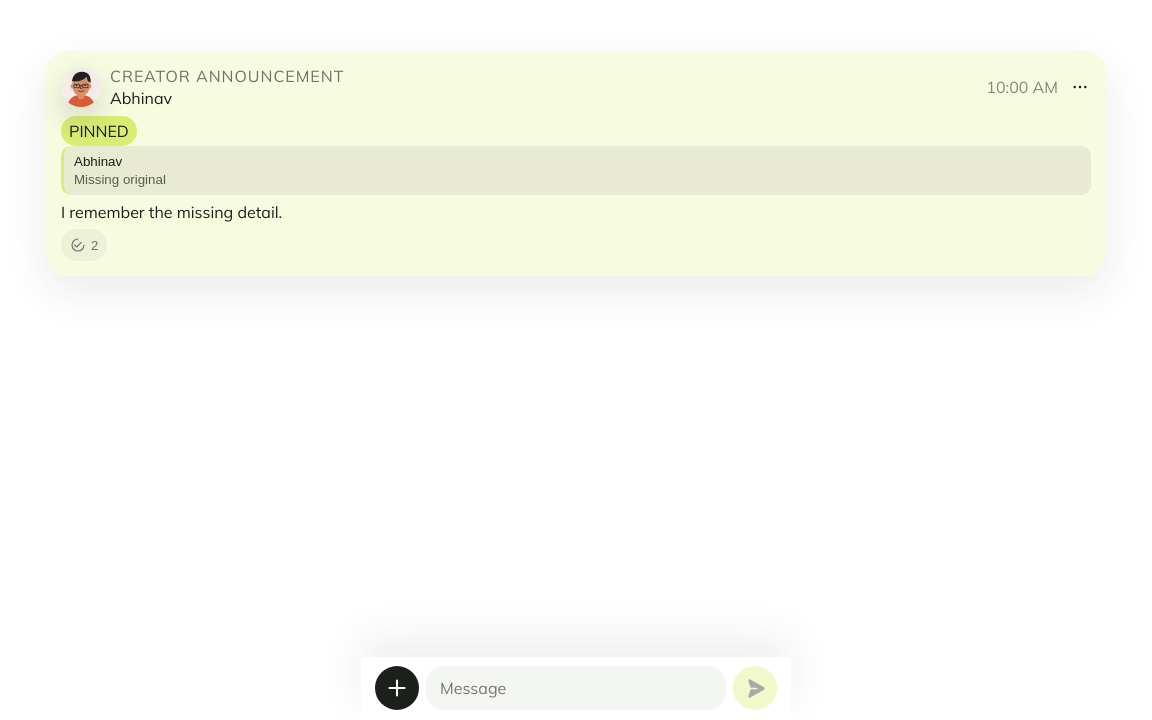
Pod room › degrades only a failed reply context to unavailable
Click the button with aria-label "Reply to Abhinav: Missing original" at (98, 162), box [61,146,1091,195]
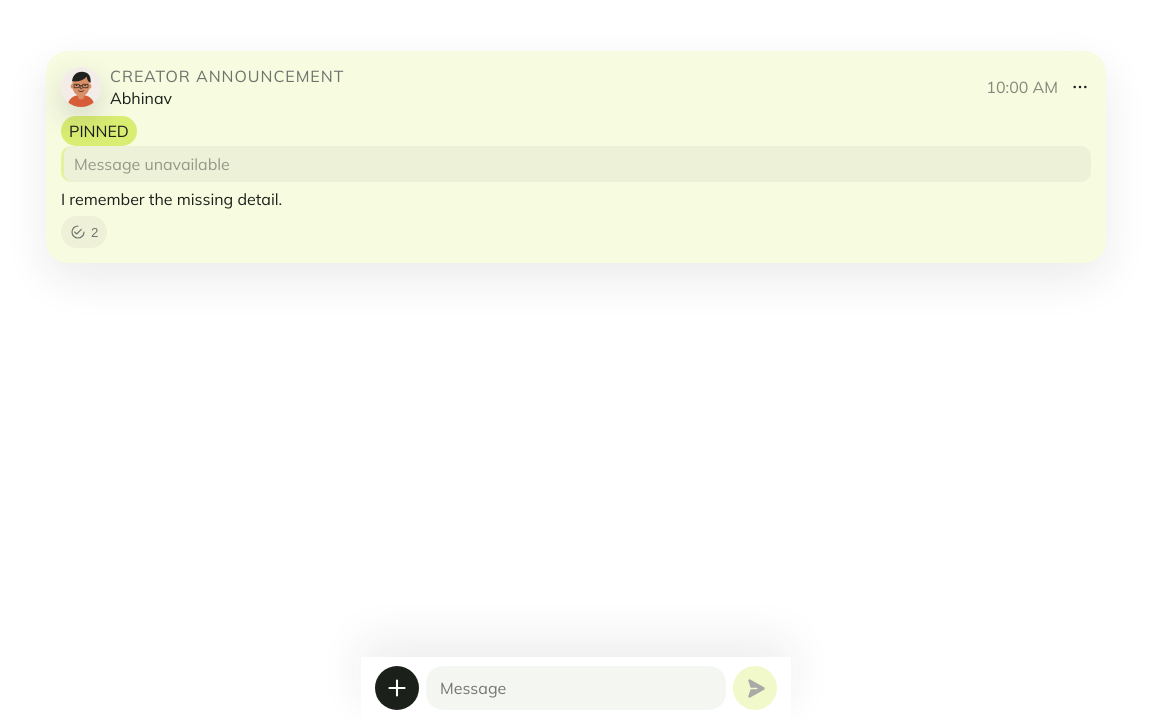
Expected: the text "I remember the missing detail." is shown, [61,189,282,209]
Result: the text "Message unavailable" is shown at [74,154,230,174]
